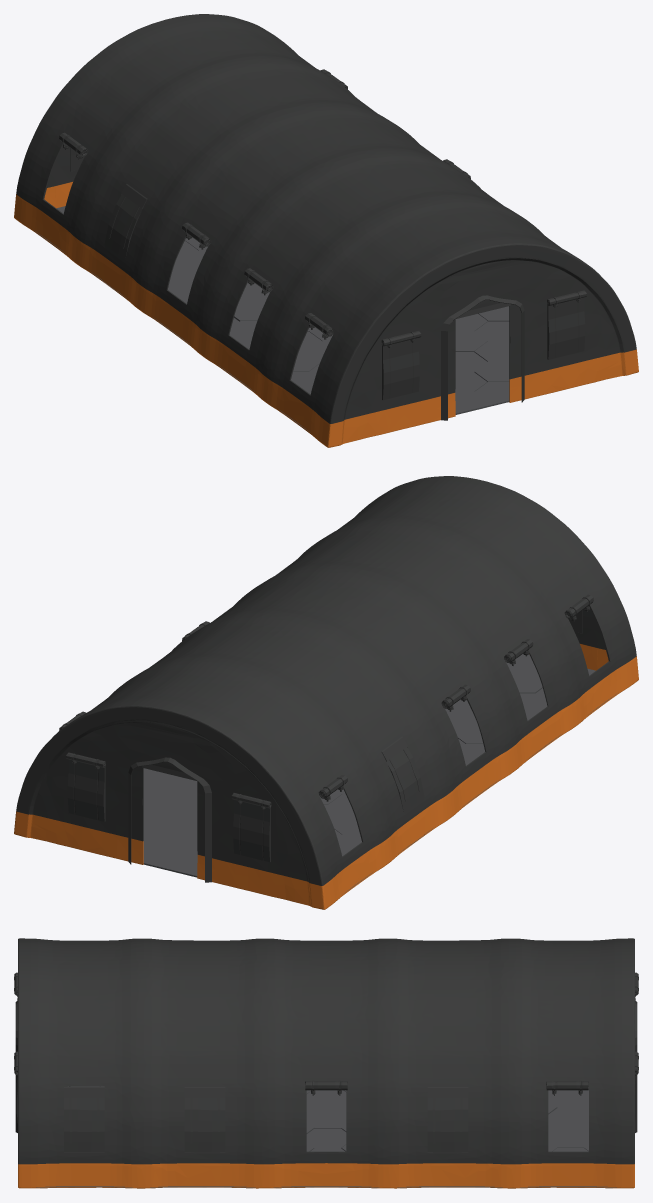
File: SM_Medical_Tent.gltf
The picture shows the model from 3 angles, top to bottom: view 1: azimuth 30°, elevation 25°; view 2: azimuth 150°, elevation 25°; view 3: azimuth 270°, elevation 25°; orthographic projection.
Parts seen in each view (by area): view 1: SM_Medical_Tent; view 2: SM_Medical_Tent; view 3: SM_Medical_Tent.
Boxes of the visible parts, x1,y1,x2,y2 form: SM_Medical_Tent: (14,14,638,447); SM_Medical_Tent: (14,476,638,909); SM_Medical_Tent: (14,938,638,1188).
Size of the model in its own units: 7.99 by 3.98 by 14.17.
